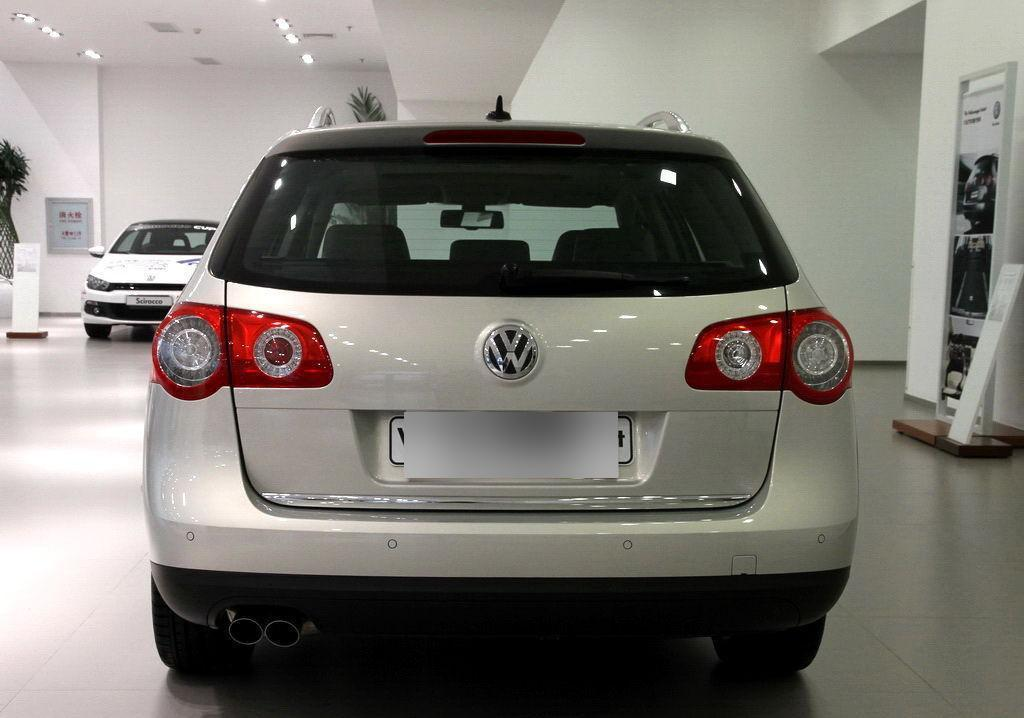Wagon: (148, 104, 857, 675)
